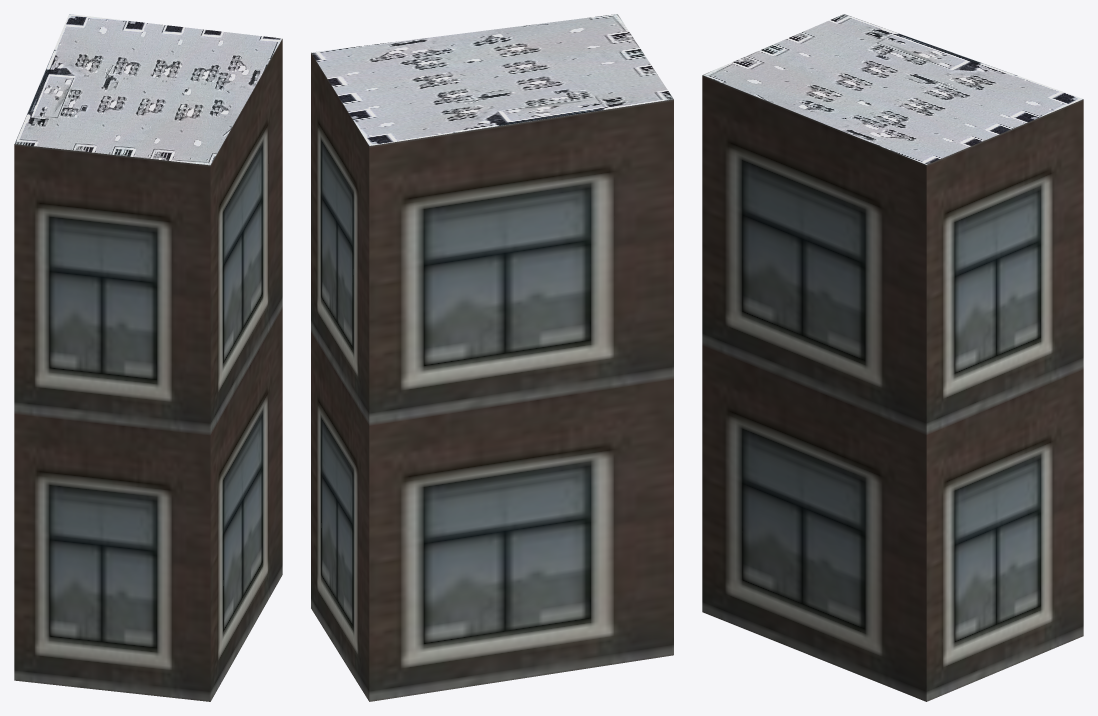
File: ResTex__1565.fbx
3 renders of one model, left to right at view 1: azimuth 30°, elevation 25°; view 2: azimuth 150°, elevation 25°; view 3: azimuth 270°, elevation 25°, orthographic. The views are drawn at different scales.
Parts seen in each view (by area): view 1: CityEngineMaterial_16_m, CityEngineMaterial_15_m; view 2: CityEngineMaterial_16_m, CityEngineMaterial_15_m; view 3: CityEngineMaterial_16_m, CityEngineMaterial_15_m.
Boxes of the visible parts, x1,y1,x2,y2 form: CityEngineMaterial_16_m: [14, 39, 282, 701]; CityEngineMaterial_15_m: [14, 14, 281, 165]; CityEngineMaterial_16_m: [311, 53, 673, 701]; CityEngineMaterial_15_m: [311, 14, 673, 145]; CityEngineMaterial_16_m: [702, 75, 1083, 701]; CityEngineMaterial_15_m: [702, 14, 1083, 164].
Size of the model in its own units: 3.62 by 6 by 3.86.
Materials: 2 (2 with a texture image).
